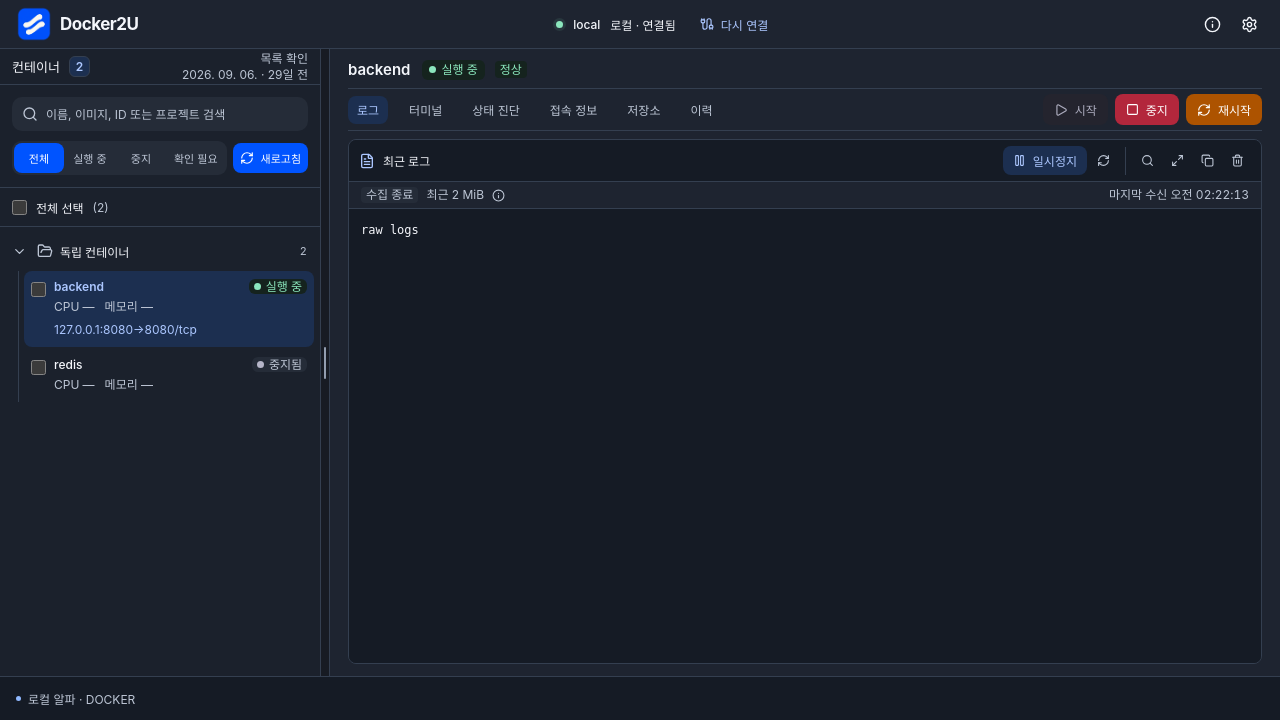
Test: connection and visible selection clarity › does not let copy feedback conceal connection state
Expected: the text "raw logs" is shown, [349, 209, 1261, 663]
Click the button named "표시된 로그 복사".
click(1207, 160)  # box [1193, 146, 1221, 174]
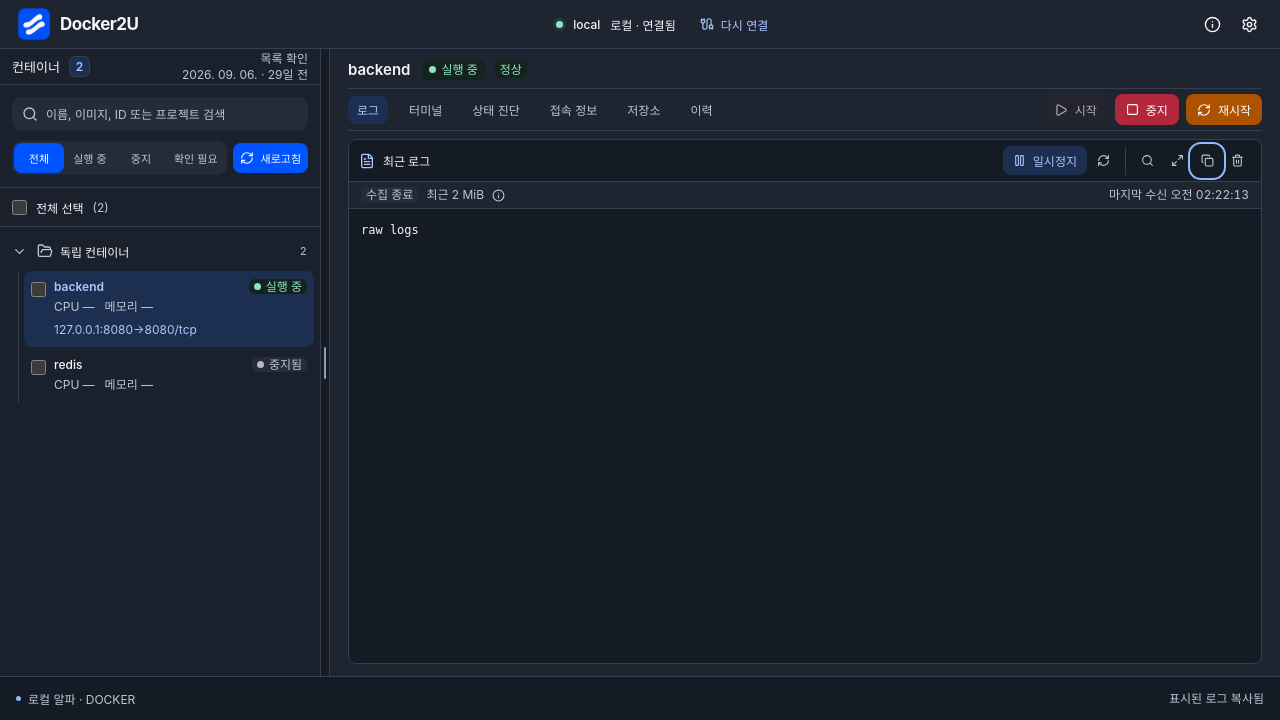
Expected: the message "로컬 · 연결됨" is shown, [610, 16, 676, 32]
Now the text "표시된 로그 복사됨" is shown, box [1169, 690, 1264, 706]
